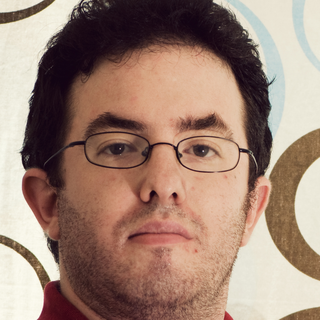eye: (94, 136, 140, 162), (178, 140, 227, 162)
